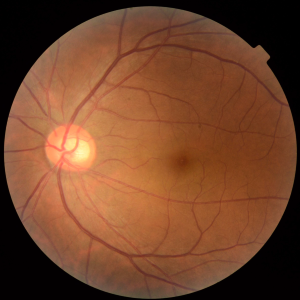glaucoma: (28, 92, 225, 214)
